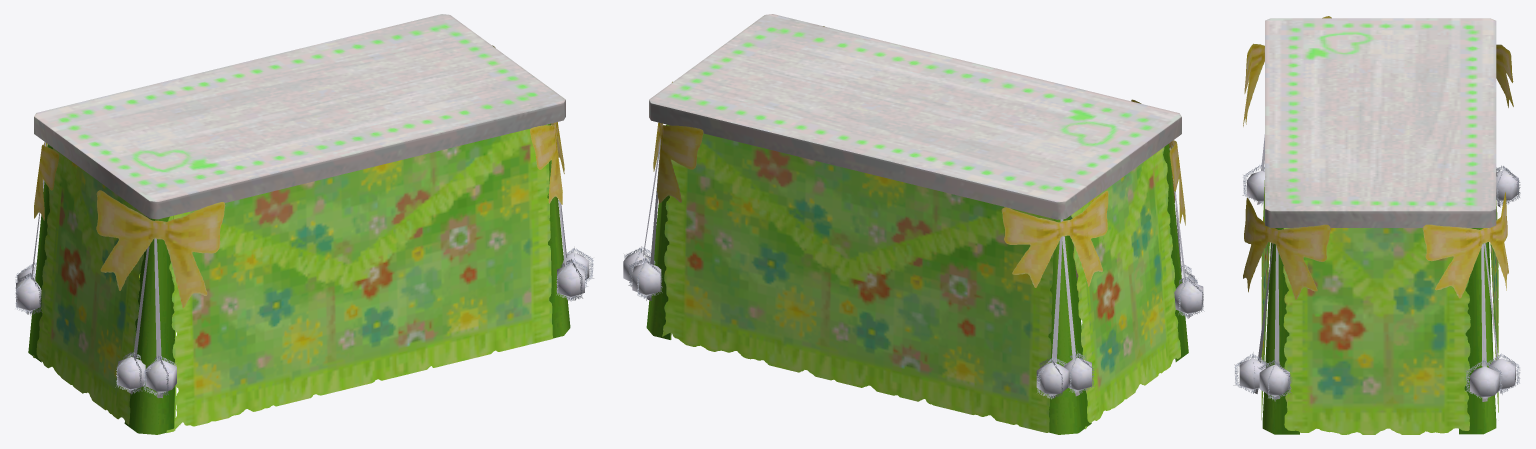
Rendered from furni_0200011_02.FBX.
The picture shows the model from 3 angles, left to right: view 1: azimuth 30°, elevation 25°; view 2: azimuth 150°, elevation 25°; view 3: azimuth 270°, elevation 25°; orthographic projection. The views are drawn at different scales.
Parts seen in each view (by area): view 1: furni_0200011_02; view 2: furni_0200011_02; view 3: furni_0200011_02.
Part boxes in pixels (left/top/right/bottom): furni_0200011_02: left=15, top=14, right=594, bottom=434; furni_0200011_02: left=623, top=14, right=1204, bottom=434; furni_0200011_02: left=1233, top=16, right=1520, bottom=434.
Bounding box in the file's own units: 172 × 80.05 × 94.92.
